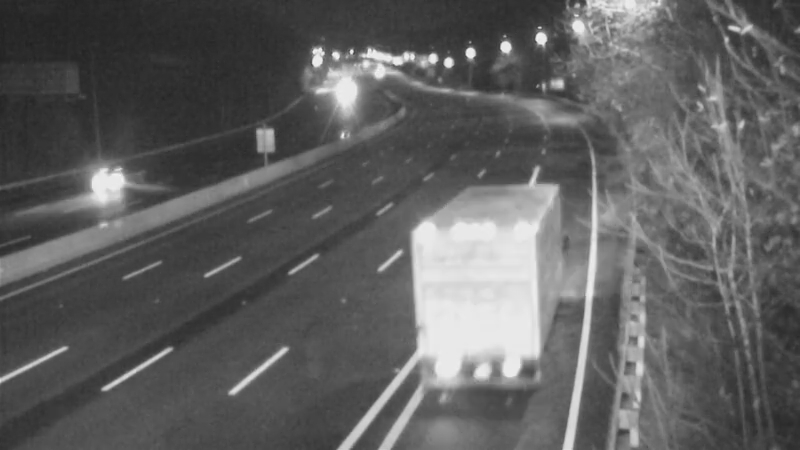vehicle: (435, 257, 515, 337), (73, 142, 153, 222), (312, 71, 362, 121)
